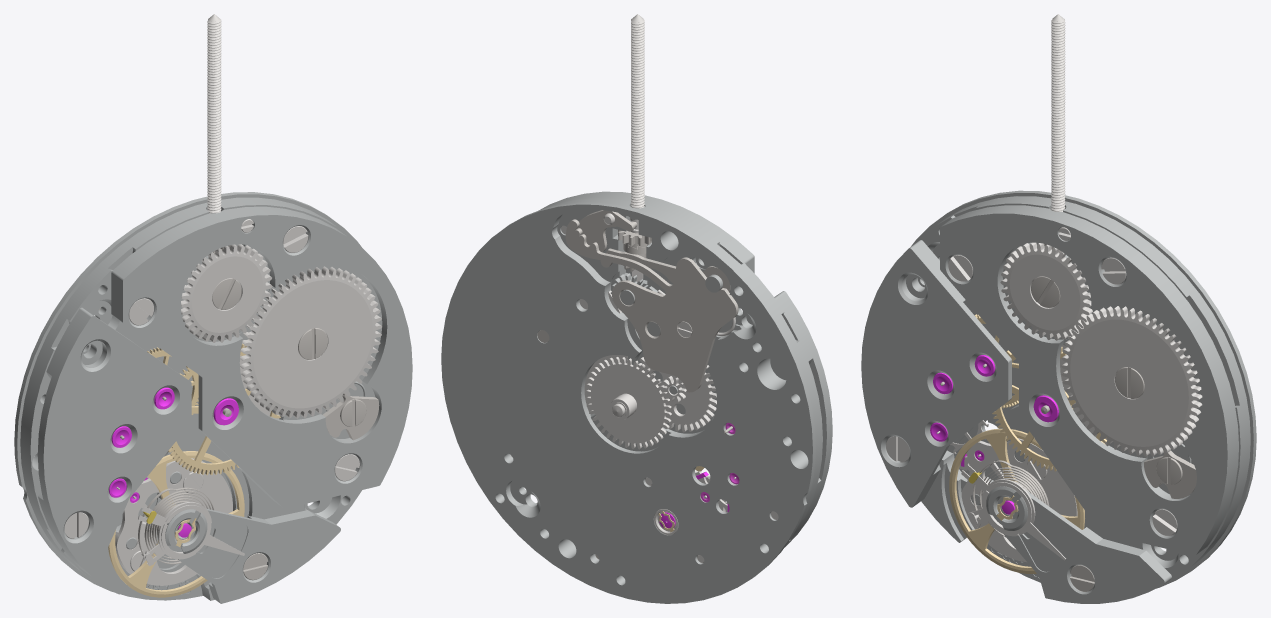
The model's file is ETA_6498-1_Movement_parts.glb.
3 views of the same model, side by side, from view 1: azimuth 30°, elevation 25°; view 2: azimuth 150°, elevation 25°; view 3: azimuth 330°, elevation 25° (orthographic).
Visible parts, largest first — view 1: 105M Barrel bridge-1__Imported3, 110 Train wheel bridge-1__Imported2, 100 Main Plate-1__Imported6, 415 Ratchet wheel-1__Imported1, 121 Balancing bridge-1__Imported1, 420 Crown wheel-1__Imported1, 125 Pallet bridge-1__Imported1, 401 Winding stem-1__Imported1, 721 Balance-1__Imported5, 721 Balance-1__Imported2, 201 Centre wheel-1__Imported2, 425 Click-1__Imported1 (+10 smaller); view 2: 100 Main Plate-1__Imported6, 445M Setting Lever Jumper-1__Imported1, 250 Hour Wheel-1__Imported1, 110 Train wheel bridge-1__Imported2, 401 Winding stem-1__Imported1, 260 Minute wheel-1__Imported1, 105M Barrel bridge-1__Imported3, 443M Setting Lever-1__Imported1, 435 Yoke-1__Imported1; view 3: 105M Barrel bridge-1__Imported3, 110 Train wheel bridge-1__Imported2, 100 Main Plate-1__Imported6, 415 Ratchet wheel-1__Imported1, 121 Balancing bridge-1__Imported1, 420 Crown wheel-1__Imported1, 125 Pallet bridge-1__Imported1, 721 Balance-1__Imported5, 401 Winding stem-1__Imported1, 425 Click-1__Imported1, 201 Centre wheel-1__Imported2, Incabloc over-1__Imported3 (+10 smaller).
Part boxes in pixels (left/top/right/bottom): 105M Barrel bridge-1__Imported3: left=111, top=206, right=412, bottom=508; 110 Train wheel bridge-1__Imported2: left=37, top=307, right=191, bottom=576; 100 Main Plate-1__Imported6: left=14, top=192, right=361, bottom=600; 415 Ratchet wheel-1__Imported1: left=240, top=266, right=382, bottom=418; 121 Balancing bridge-1__Imported1: left=168, top=508, right=340, bottom=603; 420 Crown wheel-1__Imported1: left=181, top=244, right=272, bottom=342; 125 Pallet bridge-1__Imported1: left=115, top=458, right=232, bottom=585; 401 Winding stem-1__Imported1: left=207, top=14, right=221, bottom=213; 721 Balance-1__Imported5: left=108, top=451, right=244, bottom=597; 721 Balance-1__Imported2: left=138, top=487, right=214, bottom=564; 201 Centre wheel-1__Imported2: left=168, top=343, right=280, bottom=475; 425 Click-1__Imported1: left=322, top=393, right=379, bottom=440; 100 Main Plate-1__Imported6: left=441, top=198, right=822, bottom=603; 445M Setting Lever Jumper-1__Imported1: left=565, top=219, right=738, bottom=392; 250 Hour Wheel-1__Imported1: left=585, top=357, right=671, bottom=449; 110 Train wheel bridge-1__Imported2: left=746, top=291, right=832, bottom=547; 401 Winding stem-1__Imported1: left=629, top=14, right=644, bottom=282; 260 Minute wheel-1__Imported1: left=637, top=357, right=716, bottom=432; 105M Barrel bridge-1__Imported3: left=539, top=191, right=754, bottom=414; 443M Setting Lever-1__Imported1: left=573, top=210, right=637, bottom=252; 435 Yoke-1__Imported1: left=600, top=248, right=730, bottom=292; 105M Barrel bridge-1__Imported3: left=940, top=205, right=1238, bottom=555; 110 Train wheel bridge-1__Imported2: left=861, top=240, right=1011, bottom=507; 100 Main Plate-1__Imported6: left=911, top=190, right=1256, bottom=588; 415 Ratchet wheel-1__Imported1: left=1061, top=306, right=1202, bottom=456; 121 Balancing bridge-1__Imported1: left=993, top=489, right=1171, bottom=603; 420 Crown wheel-1__Imported1: left=1000, top=242, right=1092, bottom=340; 125 Pallet bridge-1__Imported1: left=961, top=438, right=1077, bottom=562; 721 Balance-1__Imported5: left=949, top=428, right=1084, bottom=573; 401 Winding stem-1__Imported1: left=1051, top=14, right=1065, bottom=211; 425 Click-1__Imported1: left=1144, top=449, right=1196, bottom=498; 201 Centre wheel-1__Imported2: left=992, top=347, right=1106, bottom=471; Incabloc over-1__Imported3: left=986, top=486, right=1027, bottom=530.
Bounding box in the file's own units: 0.0372 × 0.0552 × 0.00606.
